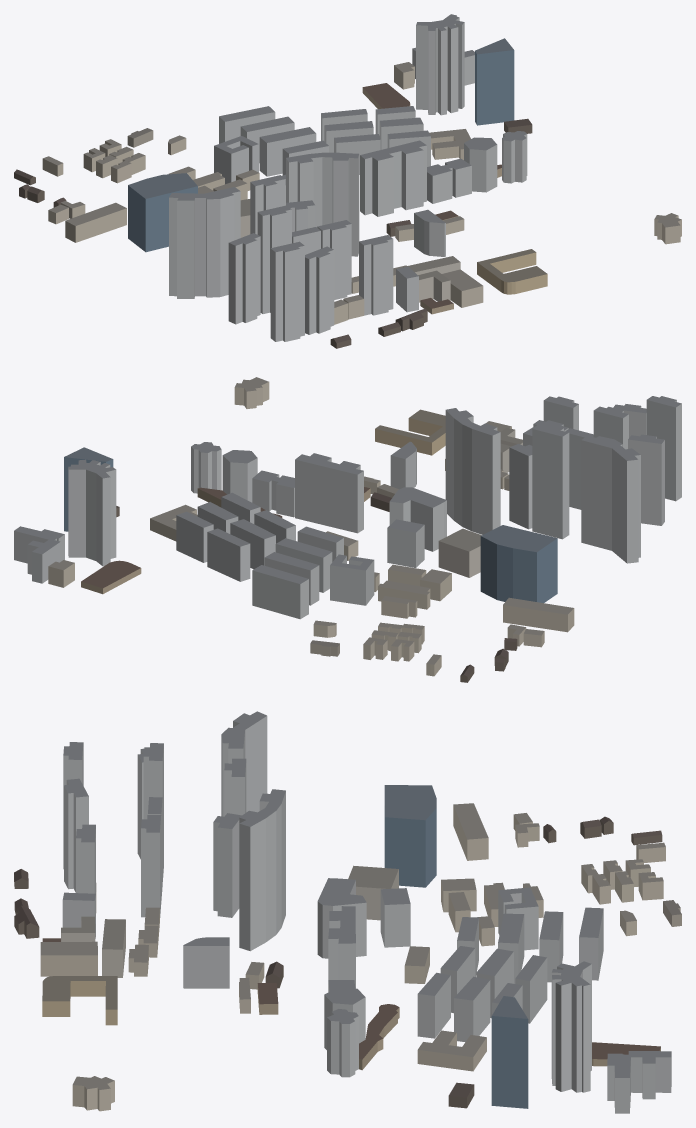
File: tile_7_5.glb
3 renders of one model, top to bottom at view 1: azimuth 30°, elevation 25°; view 2: azimuth 150°, elevation 25°; view 3: azimuth 270°, elevation 25°, orthographic. The views are drawn at different scales.
Visible parts, largest first — view 1: HP-w505646871, HP-w505646874, HP-w505636141, HP-w505622529, HP-w859488902, HP-w859488922, HP-w505636142, HP-w859488929, HP-w859488924, HP-w859488923, HP-w1260481141, HP-w859488928 (+28 smaller); view 2: HP-w505646871, HP-w505646874, HP-w859488902, HP-w505636141, HP-w505622529, HP-w505646872, HP-w859488922, HP-w505643621, HP-w859488929, HP-w505636051, HP-w505636140, HP-w505664438 (+33 smaller); view 3: HP-w505646874, HP-w505636141, HP-w859488902, HP-w505636142, HP-w505646871, HP-w505636140, HP-w505646873, HP-w1260481141, HP-w505646875, HP-w505636051, HP-w505622541, HP-w505636147 (+36 smaller).
Part boxes in pixels (x1,y1,x2,y2): HP-w505646871: (169,187,240,298); HP-w505646874: (286,152,359,256); HP-w505636141: (416,14,464,115); HP-w505622529: (360,140,426,216); HP-w859488902: (128,173,197,252); HP-w859488922: (270,241,304,341); HP-w505636142: (475,38,514,125); HP-w859488929: (228,233,260,324); HP-w859488924: (359,235,393,315); HP-w859488923: (305,246,334,334); HP-w1260481141: (477,249,547,294); HP-w859488928: (257,205,291,313); HP-w505646871: (581,435,640,563); HP-w505646874: (445,408,500,534); HP-w859488902: (480,525,557,602); HP-w505636141: (68,459,116,566); HP-w505622529: (295,453,363,533); HP-w505646872: (532,425,569,539); HP-w859488922: (646,396,681,501); HP-w505643621: (252,565,308,619); HP-w859488929: (628,434,664,525); HP-w505636051: (389,487,446,551); HP-w505636140: (14,526,64,583); HP-w505664438: (330,554,374,605); HP-w505646874: (239,789,285,951); HP-w505636141: (551,961,591,1092); HP-w859488902: (384,785,436,887); HP-w505636142: (491,996,528,1108); HP-w505646871: (221,711,267,816); HP-w505636140: (607,1051,671,1113); HP-w505646873: (213,813,241,917); HP-w1260481141: (42,976,117,1025); HP-w505646875: (183,937,229,988); HP-w505636051: (317,878,366,958); HP-w505622541: (327,1009,358,1077); HP-w505636147: (417,1030,486,1071).
Bounding box in the file's own units: 524 × 105 × 512.
